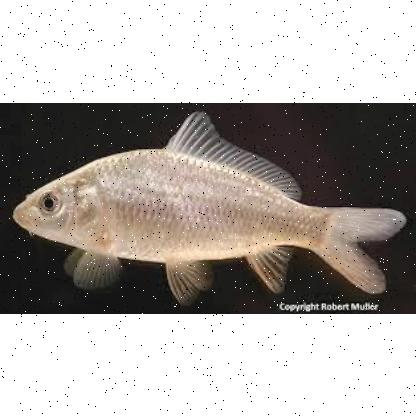ikan-mas: (14, 115, 392, 292)
